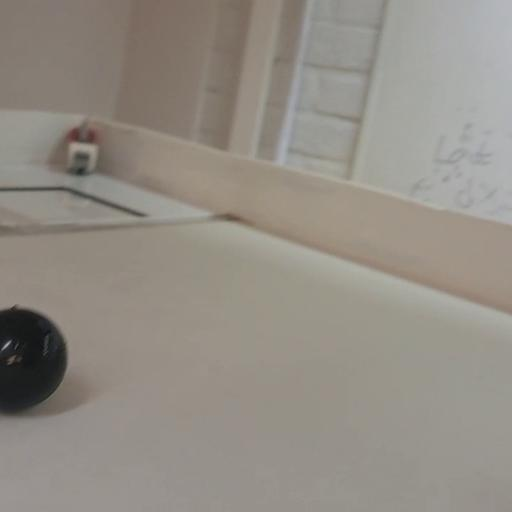dead: (0, 303, 69, 412)
